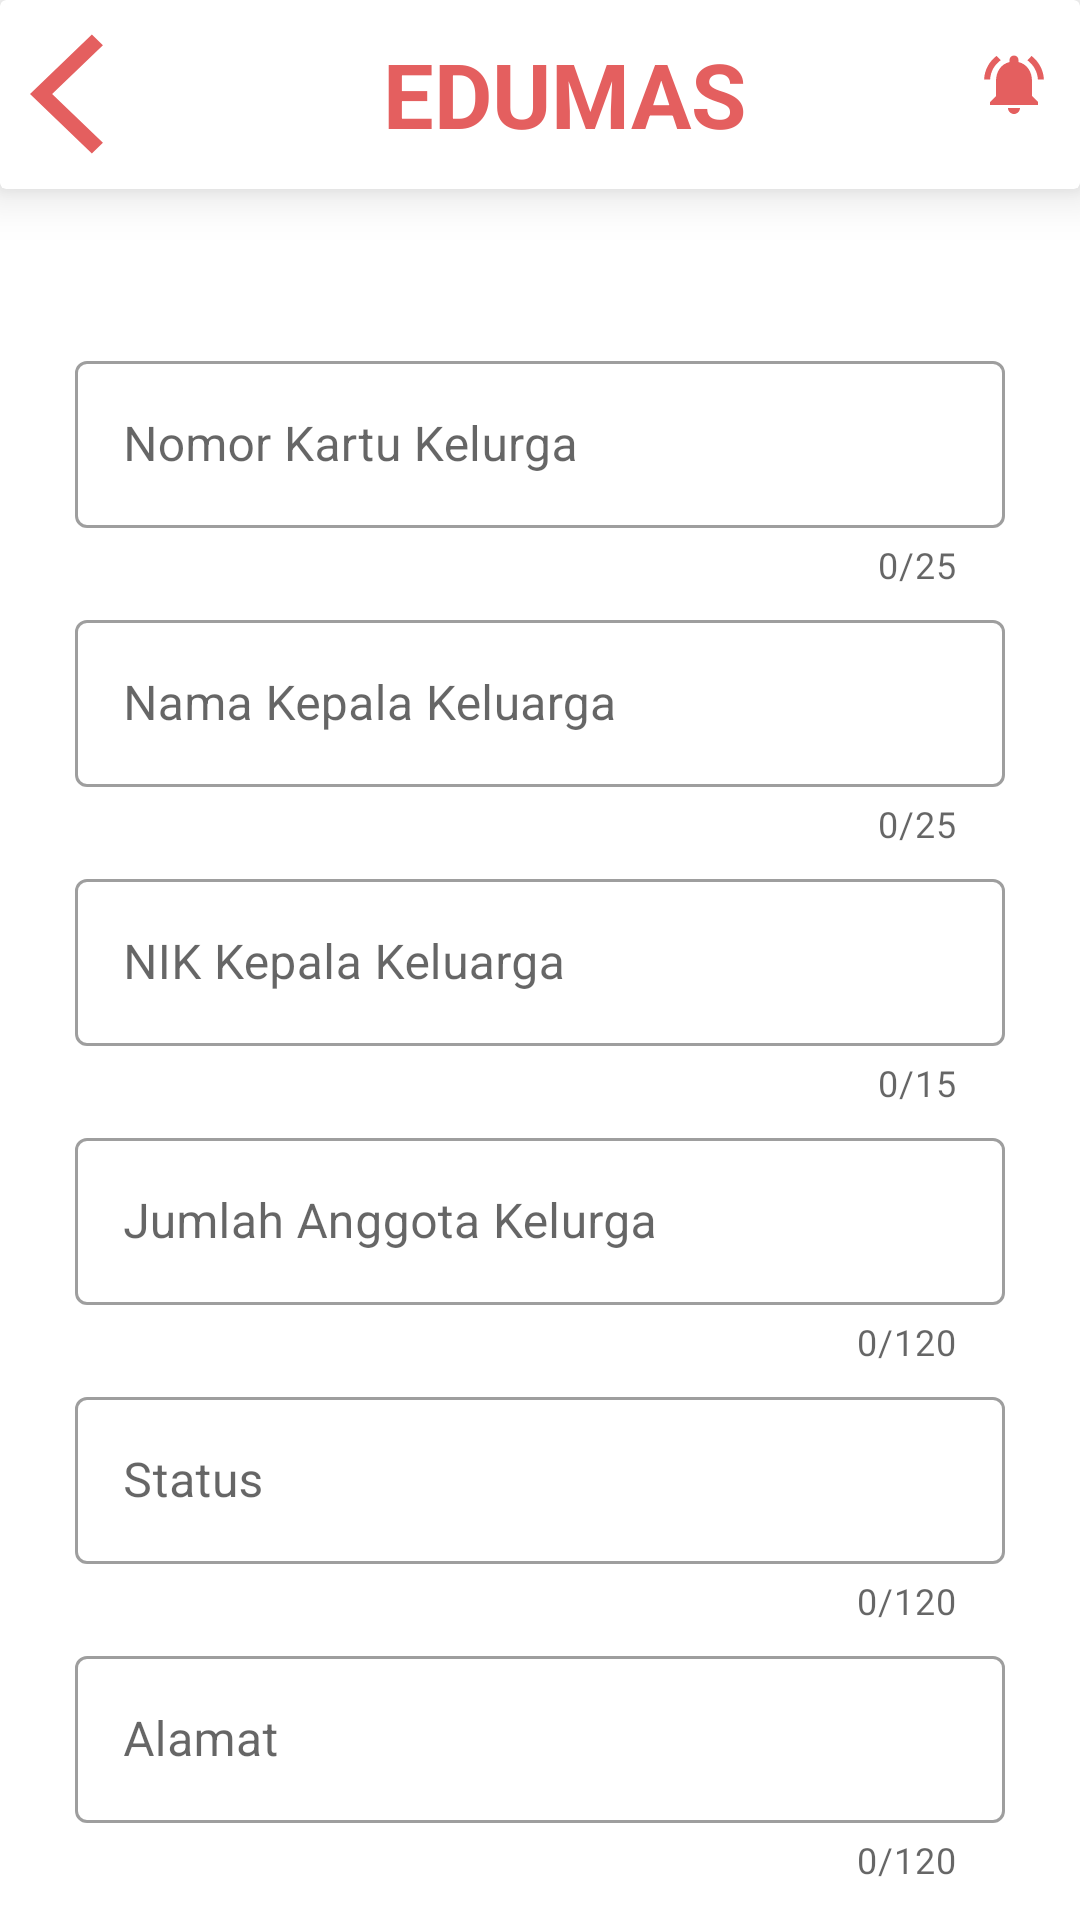

Icons on this 1080 x 1920 Android screen, each with its box as (x1, y1, x2, y2):
back: (30, 34, 103, 154)
notif: (984, 55, 1044, 114)
